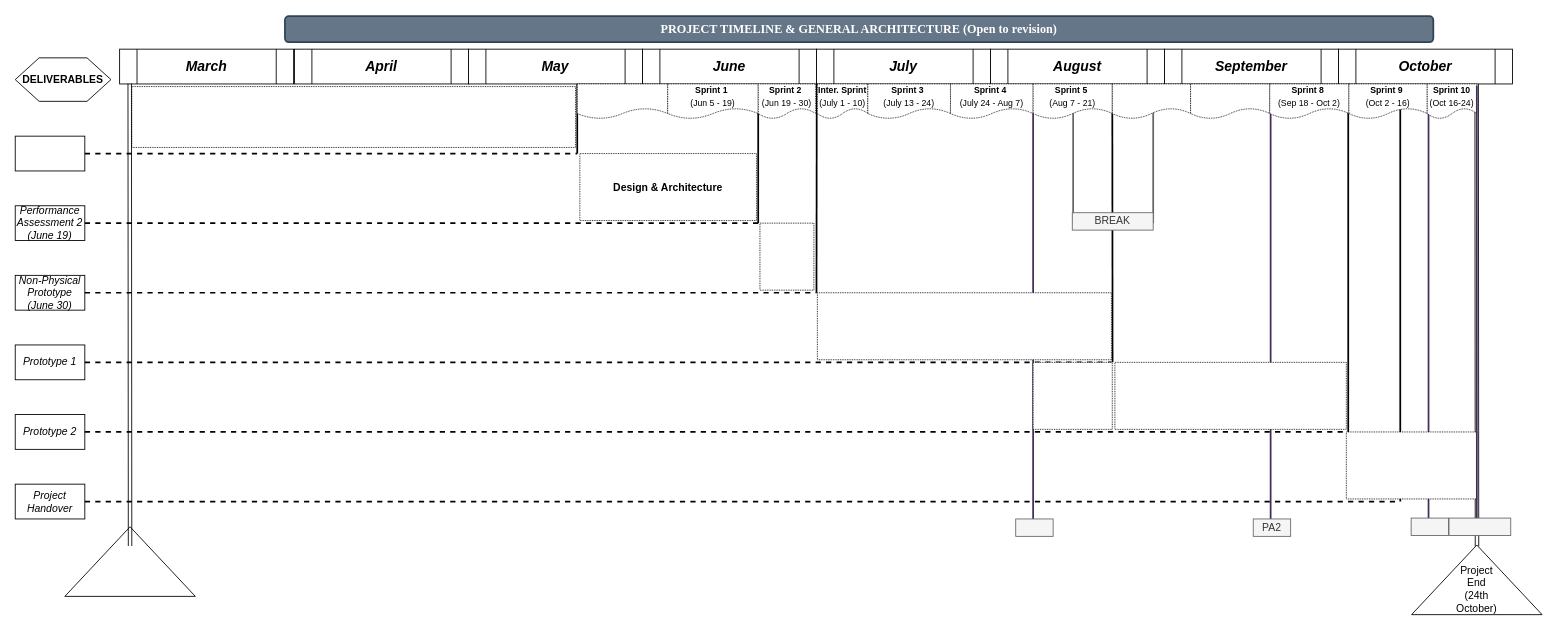
Image size: 1557x630. Some labels were removed from this diagram. Here are the shapes that lost their labels. From the top down, the box of each, then its label:
(131, 86, 576, 147): Project initialization
(576, 83, 668, 119): Sprint 0 (May22-Jun5)
(1111, 83, 1191, 119): Sprint 6 (Aug 21 - Sep 4)
(1190, 83, 1270, 119): Sprint 7 (Sep 4 - 18)
(14, 135, 85, 171): Performance Assessment 1 (May 22)
(759, 222, 814, 290): Design Finalizing
(816, 292, 1111, 360): Ordering, Building and Testing P1
(1032, 361, 1112, 429): ORDER PARTS for P2
(1114, 361, 1346, 429): Ordering, Building and Testing P2
(1345, 431, 1477, 499): Creating &Finalizing Handover Documentation & Presentation Prep.
(1015, 518, 1053, 536): PA1
(1410, 517, 1449, 535): PA3
(1448, 517, 1511, 535): Presentation
(64, 526, 195, 596): Project Start (2nd of March)
